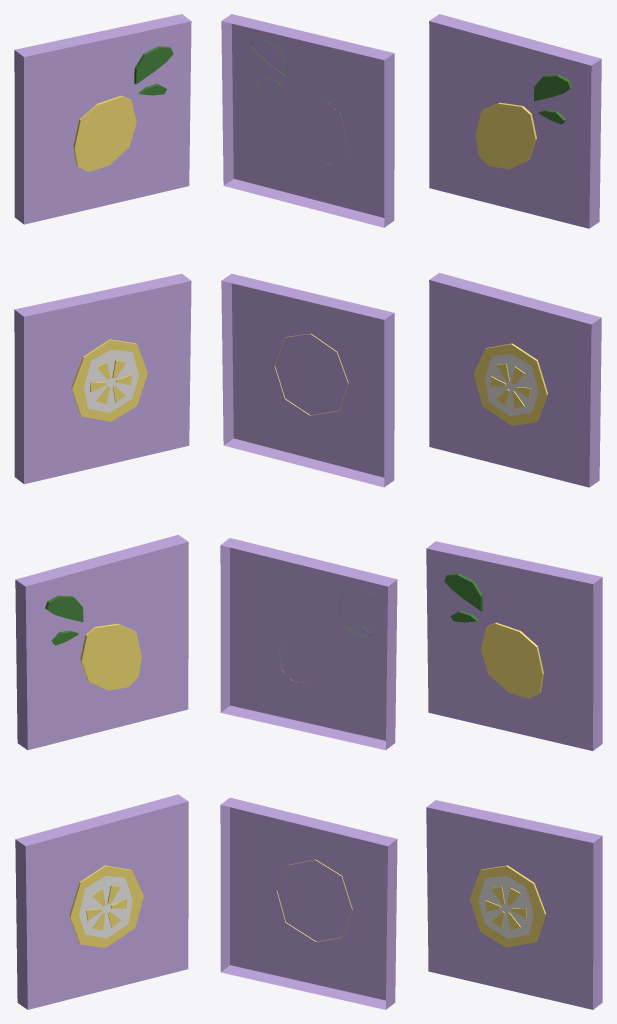
Rendered from Picture_24.fbx.
The picture shows the model from 3 angles, left to right: view 1: azimuth 30°, elevation 25°; view 2: azimuth 150°, elevation 25°; view 3: azimuth 330°, elevation 25°; orthographic projection.
Visible parts, largest first — view 1: Picture_24; view 2: Picture_24; view 3: Picture_24.
Boxes of the visible parts, left/top/right/bottom form: Picture_24: left=14, top=14, right=191, bottom=1009; Picture_24: left=220, top=14, right=397, bottom=1009; Picture_24: left=426, top=14, right=602, bottom=1009.
Bounding box in the file's own units: 31.73 × 4.6 × 173.
